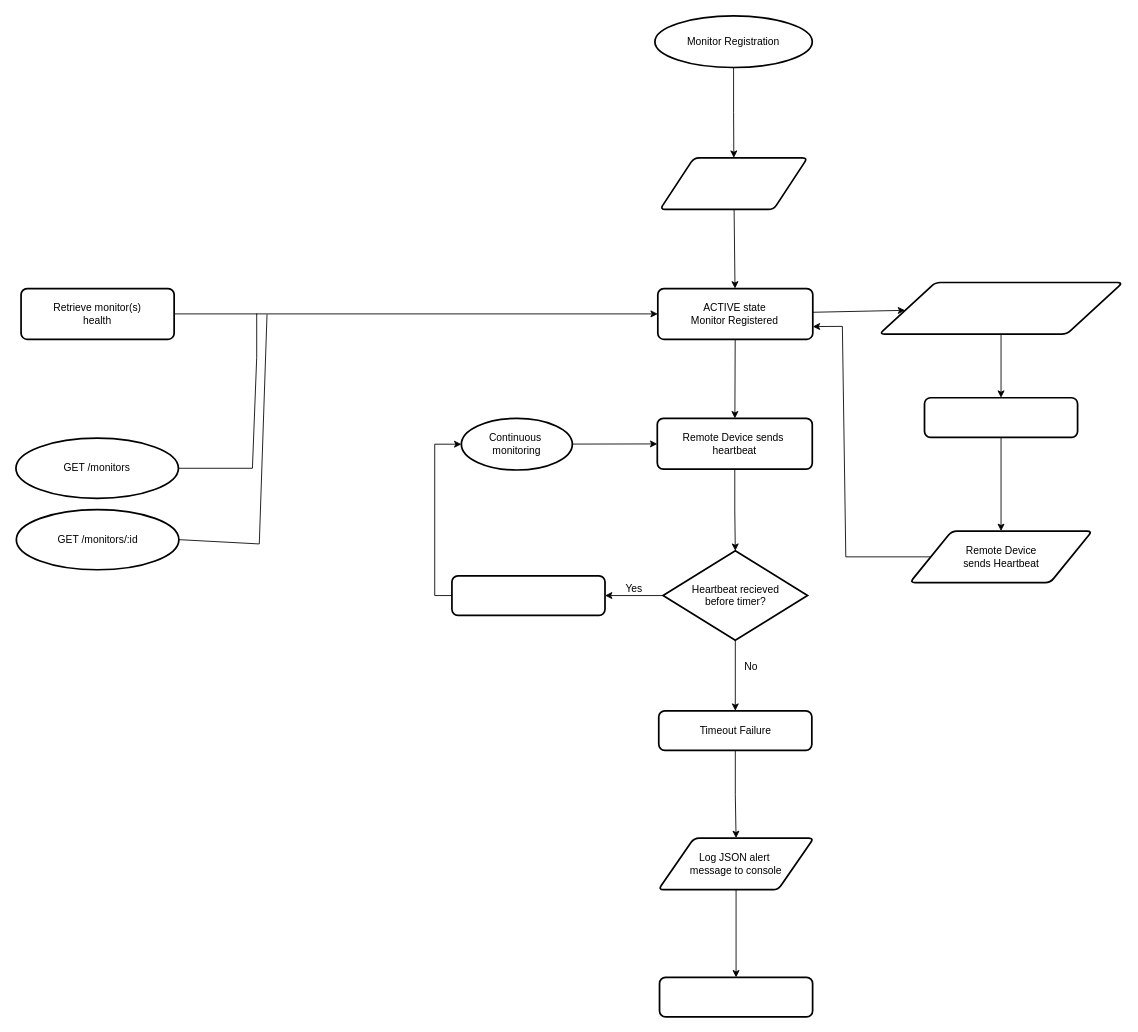
Image size: 1138x1032. Some labels were removed from this diagram. Each missing label, with the centre of its shape:
"Clear existing timer, start new timer" belongs at (528,595).
"DOWN state" belongs at (735,996).
"PAUSED state" belongs at (1000,417).
"POST /monitors endpoint" belongs at (733,183).
"POST /monitors/:id/pause endpoint" belongs at (1000,308).
